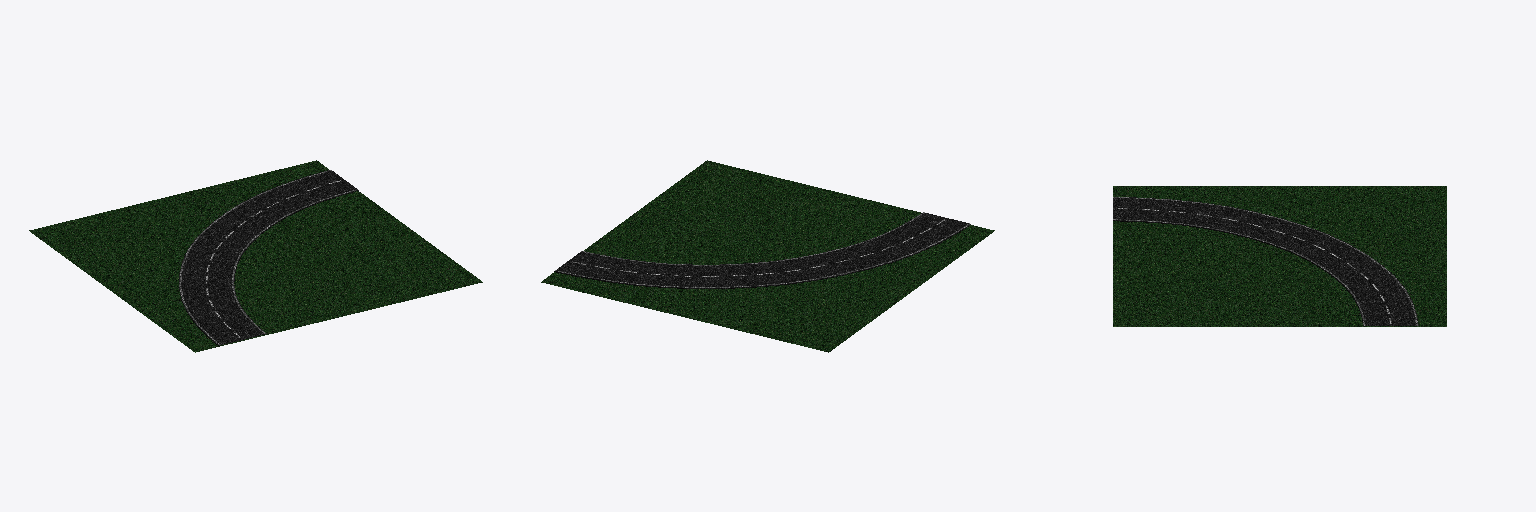
3 views of the same model, side by side, from view 1: azimuth 30°, elevation 25°; view 2: azimuth 150°, elevation 25°; view 3: azimuth 270°, elevation 25° (orthographic).
Parts seen in each view (by area): view 1: Plane.001, Road; view 2: Plane.001, Road; view 3: Plane.001, Road.
Boxes of the visible parts, <box> form: Plane.001: <box>29,160,482,352</box>; Road: <box>179,170,358,345</box>; Plane.001: <box>541,160,994,352</box>; Road: <box>554,212,970,288</box>; Plane.001: <box>1113,186,1446,326</box>; Road: <box>1113,197,1418,325</box>.
Bounding box in the file's own units: 30 × 0.1 × 30.
2 materials, 2 textured.